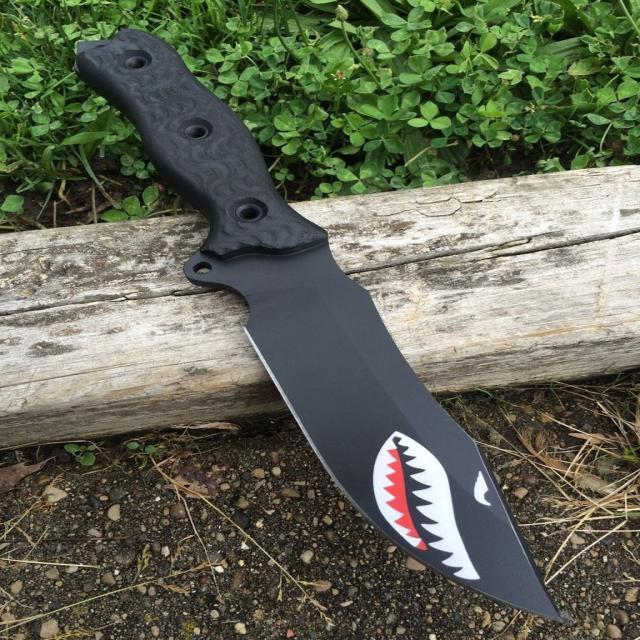Knife: (76, 30, 565, 621)
